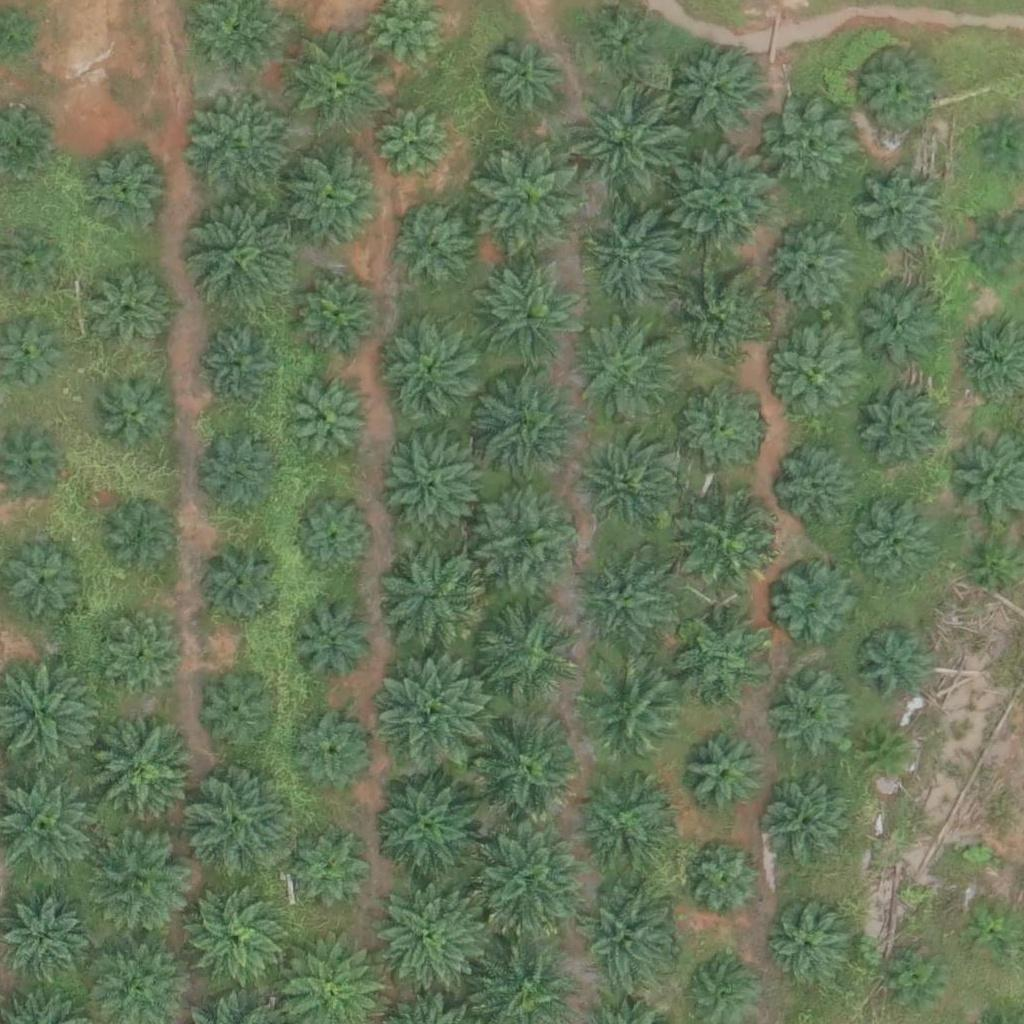Kelapa_Sawit: (572, 75, 697, 200), (187, 92, 300, 206), (193, 199, 306, 313), (474, 825, 587, 939), (374, 656, 487, 770), (474, 139, 587, 252), (479, 258, 592, 371), (473, 367, 586, 480), (373, 768, 486, 881), (371, 883, 484, 996), (83, 824, 196, 937), (473, 485, 585, 599), (568, 883, 680, 997), (476, 714, 588, 828), (376, 543, 488, 657), (573, 654, 685, 767), (181, 764, 293, 877), (183, 881, 295, 994), (82, 717, 194, 830), (286, 30, 386, 131), (587, 205, 687, 306), (577, 320, 677, 421), (577, 441, 677, 542), (675, 151, 775, 252), (667, 267, 767, 368), (681, 490, 781, 591), (754, 769, 854, 870), (676, 611, 776, 712), (286, 150, 386, 250), (383, 317, 483, 417), (386, 431, 486, 531), (580, 552, 680, 652), (577, 774, 677, 874), (476, 603, 576, 703), (3, 539, 91, 628), (773, 329, 861, 418), (676, 49, 764, 137), (677, 384, 765, 472), (773, 441, 861, 529), (772, 561, 860, 649), (770, 666, 858, 754), (99, 611, 187, 699), (483, 35, 570, 124), (288, 600, 375, 688), (294, 494, 381, 582), (203, 539, 290, 627), (767, 103, 854, 191), (769, 228, 856, 316), (857, 170, 944, 258), (855, 283, 942, 371), (855, 385, 942, 473), (849, 503, 936, 591), (766, 900, 853, 988), (680, 732, 767, 820), (292, 703, 379, 791), (287, 823, 374, 911), (92, 273, 167, 349), (862, 49, 937, 125), (690, 841, 765, 917), (87, 153, 162, 229), (207, 326, 282, 402), (205, 440, 280, 516), (299, 279, 374, 355), (294, 383, 369, 459), (401, 212, 476, 288), (879, 937, 954, 1013), (376, 105, 451, 180), (98, 501, 173, 576), (100, 373, 175, 448), (858, 628, 933, 703), (200, 675, 275, 750), (596, 12, 658, 75), (969, 545, 1019, 596), (971, 906, 1021, 957), (863, 726, 913, 777)
